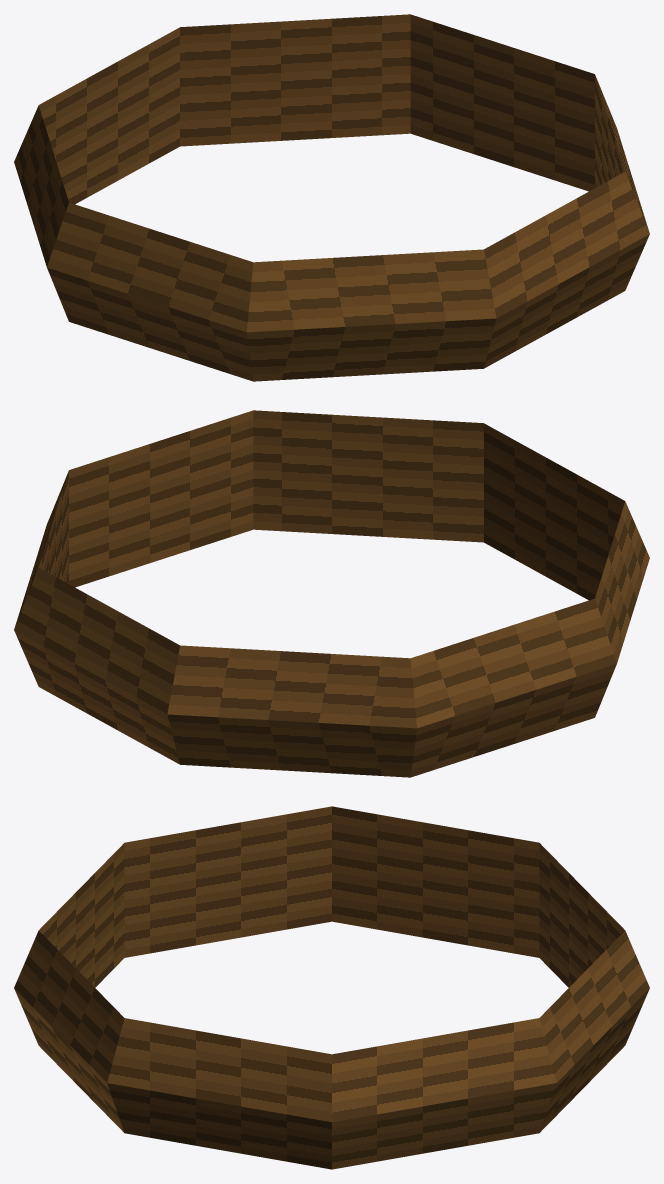
File: lazo.glb
3 views of the same model, one above another, from view 1: azimuth 30°, elevation 25°; view 2: azimuth 150°, elevation 25°; view 3: azimuth 270°, elevation 25° (orthographic). The views are drawn at different scales.
Parts seen in each view (by area): view 1: rollo; view 2: rollo; view 3: rollo.
Part boxes in pixels (left/top/right/bottom): rollo: left=14, top=14, right=649, bottom=381; rollo: left=14, top=410, right=649, bottom=777; rollo: left=14, top=806, right=649, bottom=1169.
Bounding box in the file's own units: 0.5 × 0.1 × 0.5.
1 material, 1 textured.
